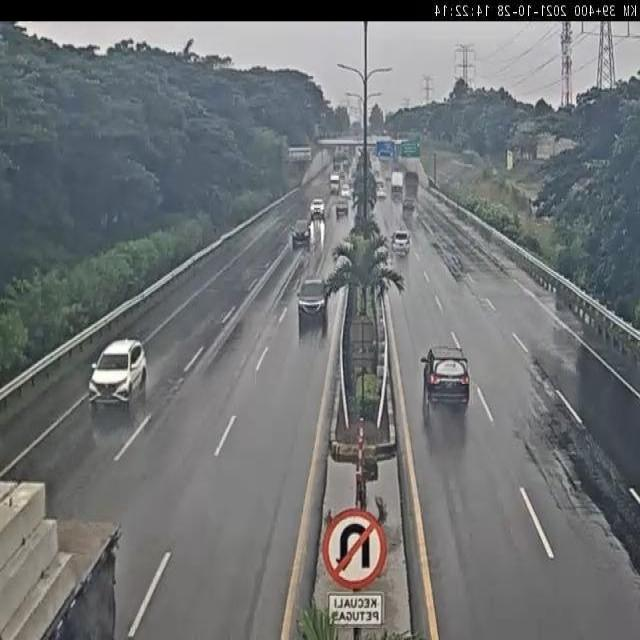Car: (87, 337, 152, 412), (420, 348, 472, 407), (296, 275, 331, 325), (388, 230, 412, 255), (290, 219, 311, 247), (308, 197, 326, 219), (336, 199, 349, 217)
Truck: (0, 468, 126, 640), (401, 171, 420, 212), (390, 168, 405, 198)
